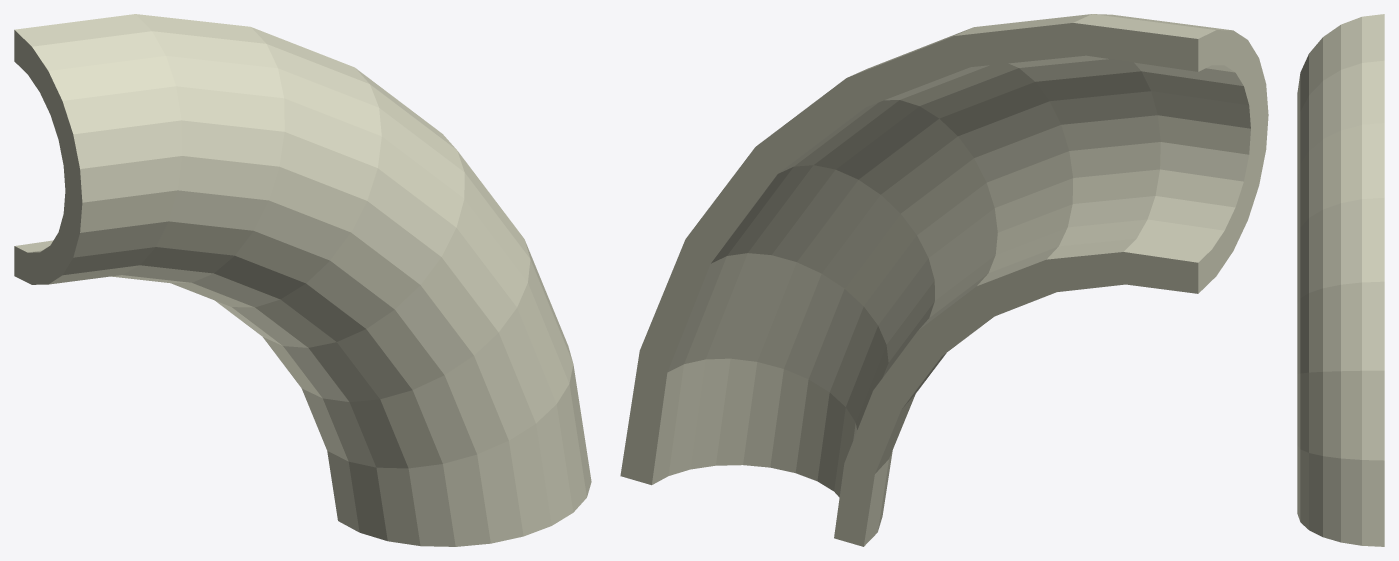
File: section_135.obj
3 renders of one model, left to right at view 1: azimuth 30°, elevation 25°; view 2: azimuth 150°, elevation 25°; view 3: azimuth 270°, elevation 25°, orthographic. The views are drawn at different scales.
Size of the model in its own units: 18.98 by 18.5 by 4.
